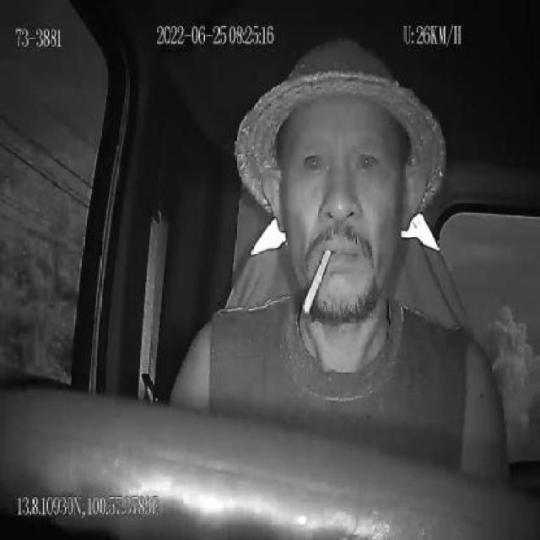smoking: (302, 246, 332, 316)
